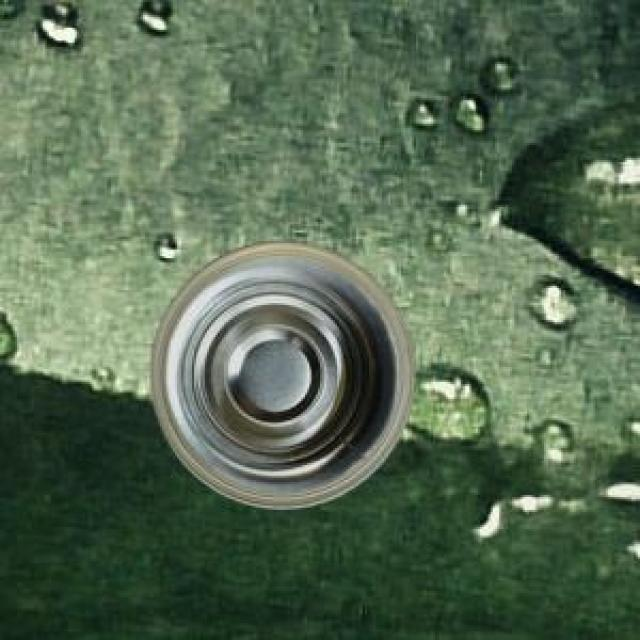logam: (148, 238, 411, 505)
